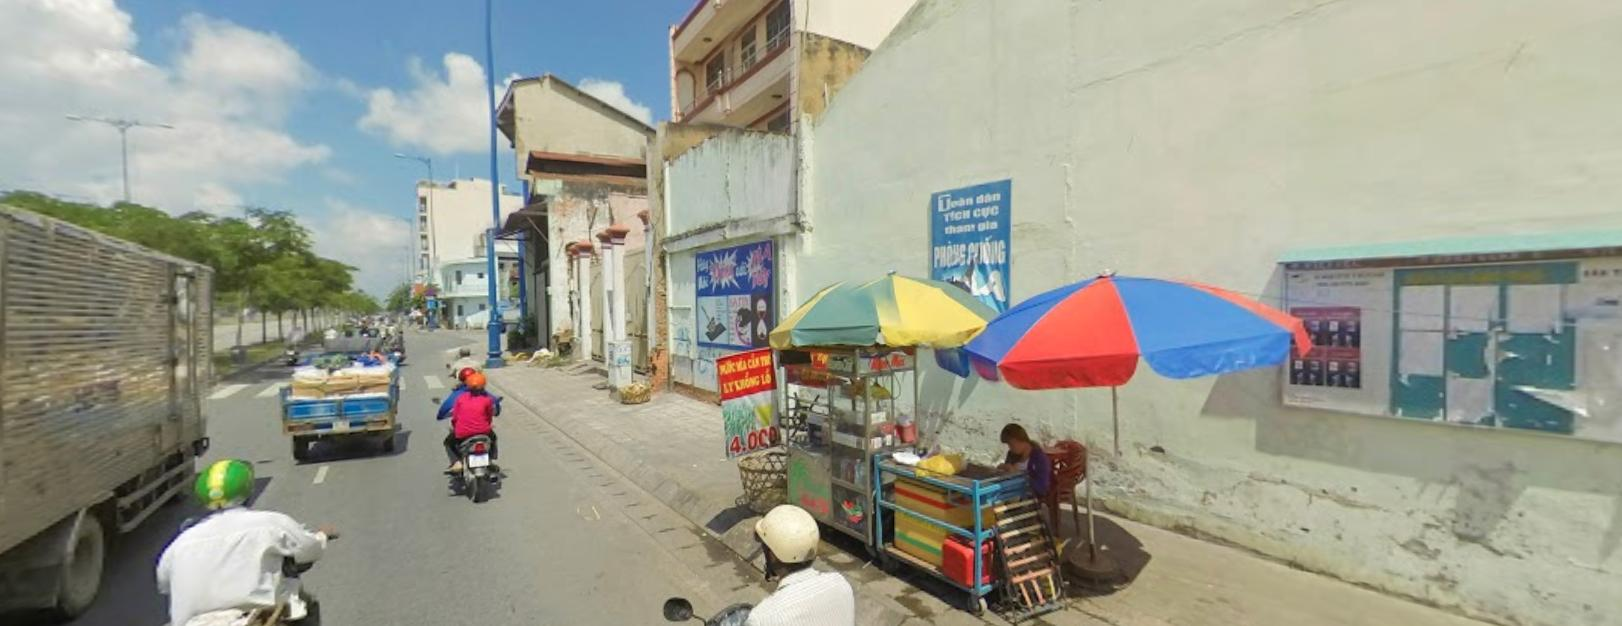Cam dung va do: (425, 285, 434, 293)
